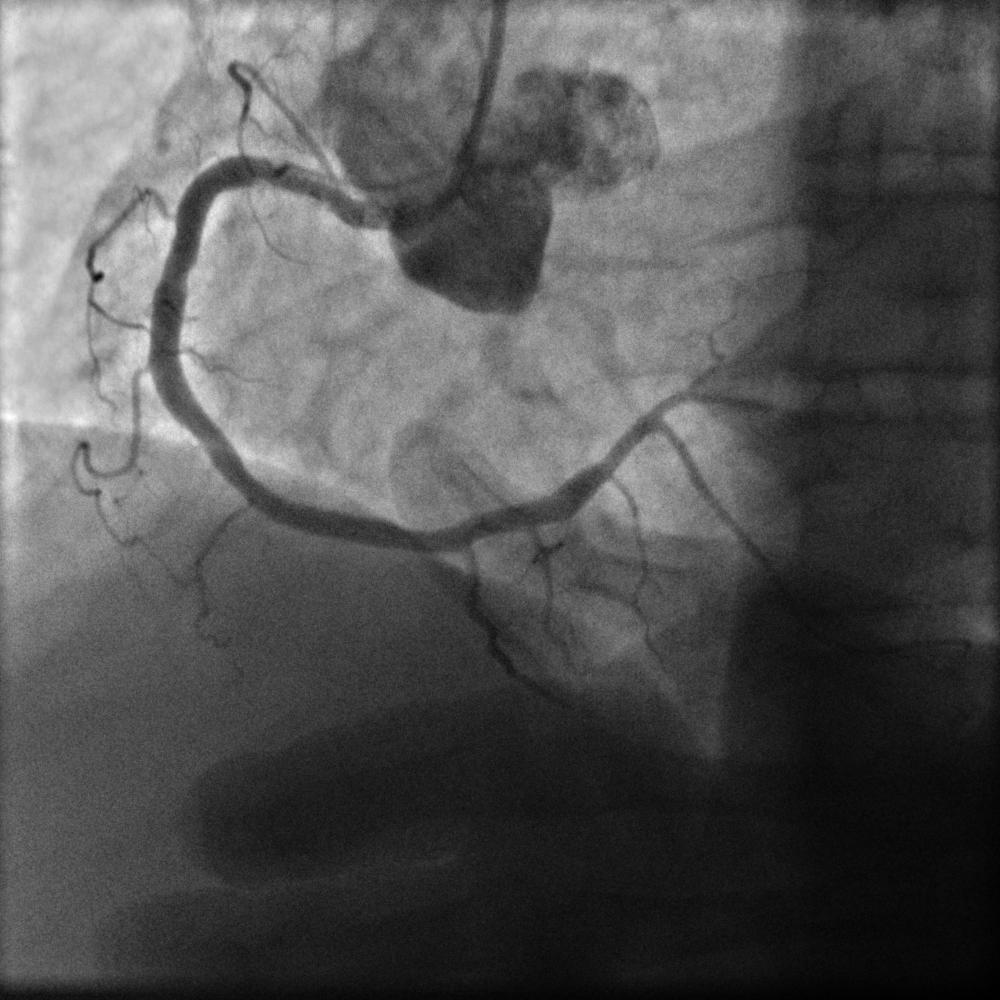Stenosis: (248, 144, 346, 219)
